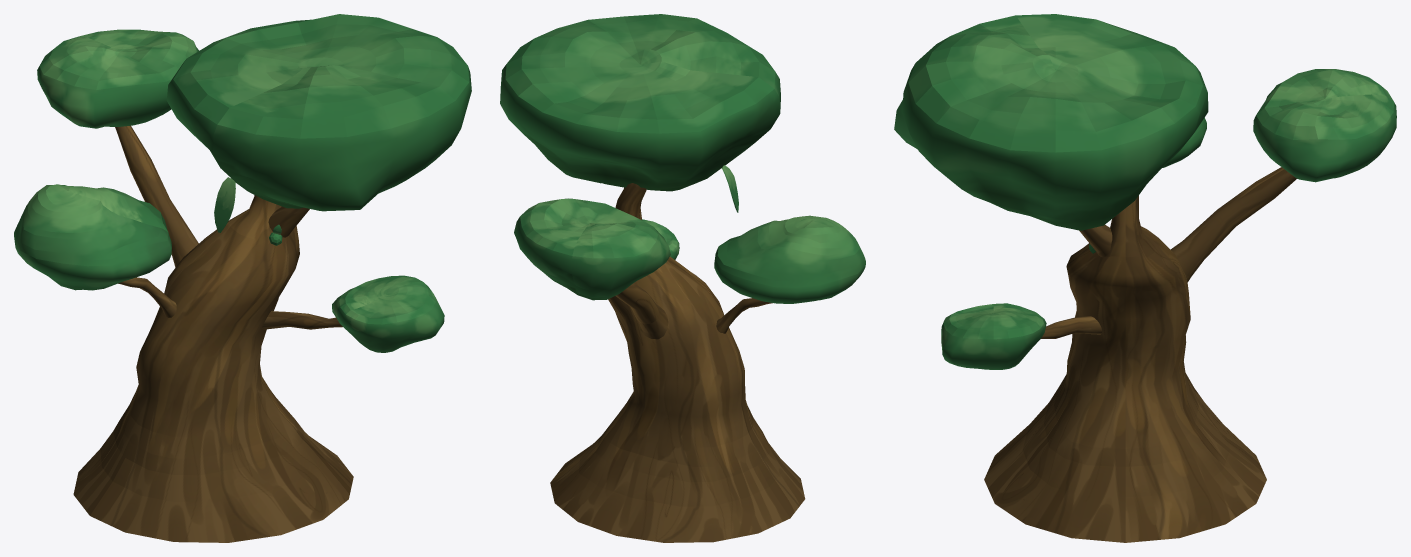
File: LargeTreeF.fbx
3 views of the same model, side by side, from view 1: azimuth 30°, elevation 25°; view 2: azimuth 150°, elevation 25°; view 3: azimuth 270°, elevation 25° (orthographic). The views are drawn at different scales.
Visible parts, largest first — view 1: polySurface275; view 2: polySurface275; view 3: polySurface275.
Part boxes in pixels (x1,y1,x2,y2): polySurface275: (14, 14, 471, 542); polySurface275: (500, 14, 865, 542); polySurface275: (894, 14, 1396, 542).
Size of the model in its own units: 9.26 by 9.54 by 9.43.
